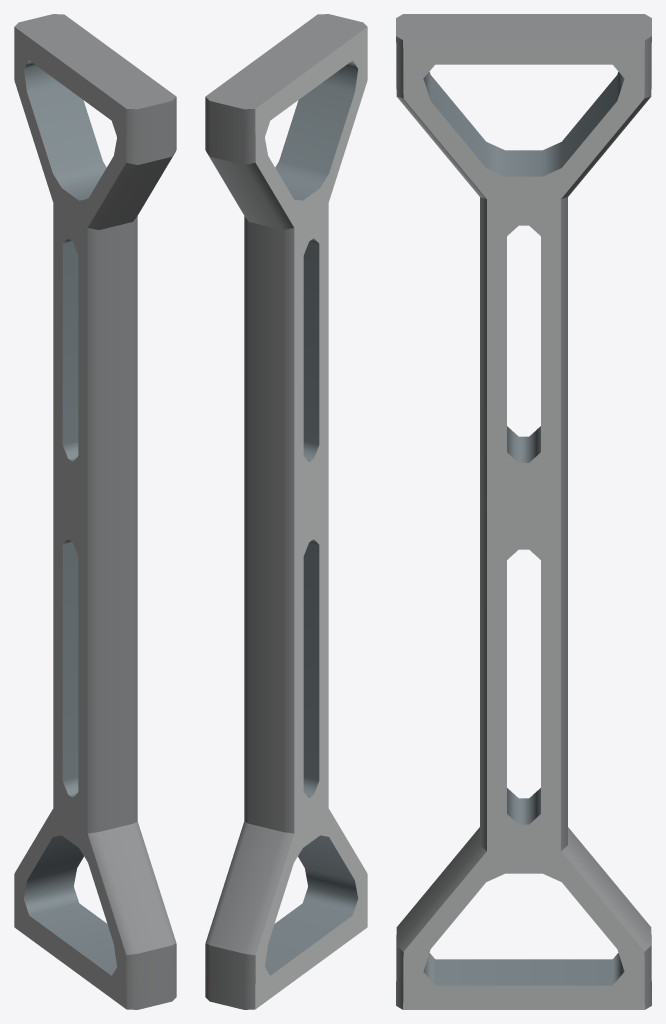
Rendered from pillar_support_1x1_breached.glb.
The picture shows the model from 3 angles, left to right: view 1: azimuth 30°, elevation 25°; view 2: azimuth 150°, elevation 25°; view 3: azimuth 270°, elevation 25°; orthographic projection. The views are drawn at different scales.
Parts seen in each view (by area): view 1: Column_003; view 2: Column_003; view 3: Column_003.
Boxes of the visible parts, x1,y1,x2,y2 form: Column_003: [14, 14, 176, 1009]; Column_003: [205, 14, 367, 1009]; Column_003: [396, 14, 651, 1009].
Size of the model in its own units: 0.2241 by 3.85 by 0.9203.
Materials: 1 (1 with a texture image).
